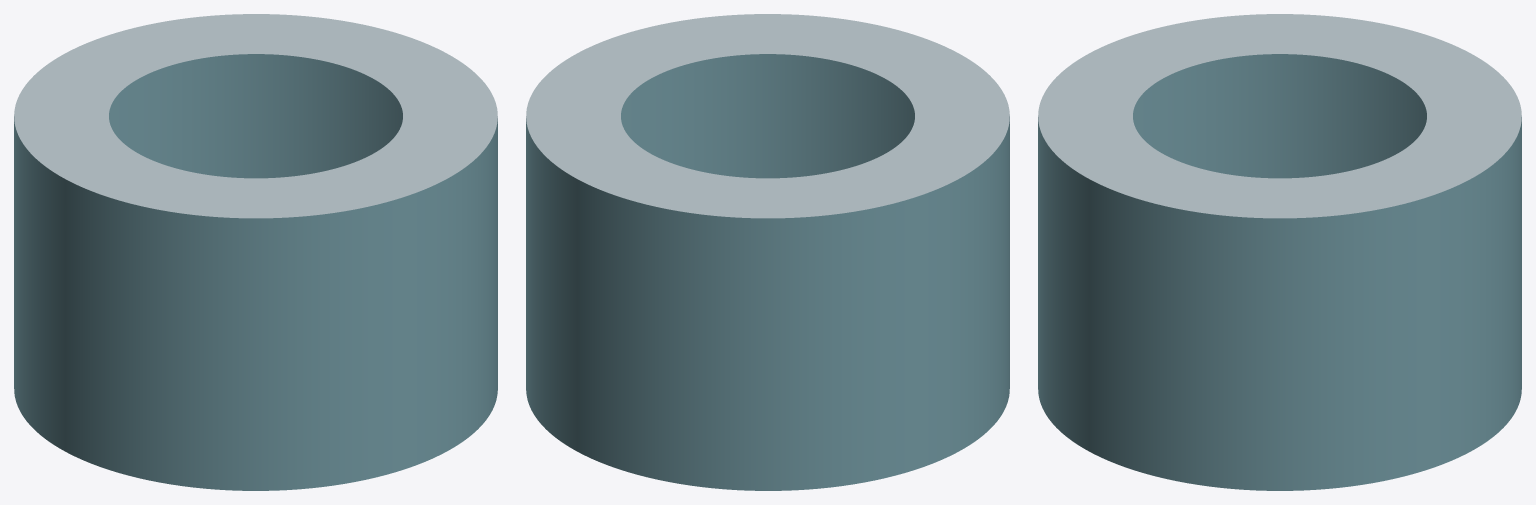
Rendered from Ranger-2.2-TDCi-air-filter.glb.
The picture shows the model from 3 angles, left to right: view 1: azimuth 30°, elevation 25°; view 2: azimuth 150°, elevation 25°; view 3: azimuth 270°, elevation 25°; orthographic projection.
Parts seen in each view (by area): view 1: MANN C 22 024 | dimensional envelope; view 2: MANN C 22 024 | dimensional envelope; view 3: MANN C 22 024 | dimensional envelope.
Boxes of the visible parts, x1,y1,x2,y2 form: MANN C 22 024 | dimensional envelope: (14,14,497,490); MANN C 22 024 | dimensional envelope: (526,14,1009,490); MANN C 22 024 | dimensional envelope: (1038,14,1521,490).
Bounding box in the file's own units: 0.222 × 0.138 × 0.222.
